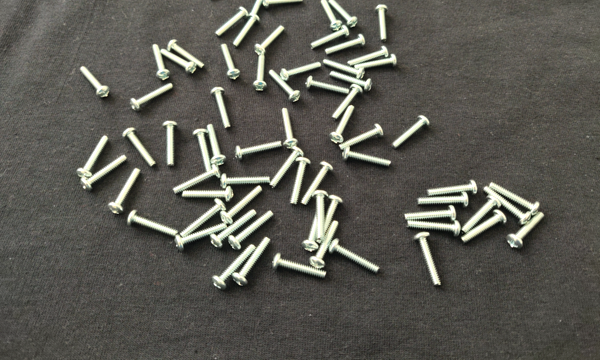longscrew: (211, 243, 257, 292), (231, 237, 272, 287), (483, 186, 532, 227), (328, 238, 382, 275), (228, 210, 276, 251), (210, 209, 257, 250), (180, 198, 228, 238), (80, 154, 127, 193), (489, 182, 541, 216), (461, 209, 508, 246), (220, 186, 264, 225), (413, 231, 443, 287), (108, 168, 143, 215), (461, 195, 502, 235), (172, 163, 223, 195), (174, 222, 227, 252), (272, 252, 328, 280), (506, 212, 547, 250), (269, 146, 305, 189), (300, 161, 334, 206), (309, 221, 340, 270), (76, 136, 109, 180), (122, 128, 158, 168), (126, 210, 179, 237), (316, 194, 344, 244), (391, 115, 431, 150), (130, 83, 173, 113), (331, 83, 364, 121), (166, 39, 206, 70), (340, 123, 384, 151), (214, 6, 250, 39), (269, 69, 302, 103), (328, 105, 356, 145), (342, 146, 392, 168), (290, 157, 312, 206), (79, 66, 111, 99), (235, 140, 283, 162), (309, 25, 351, 50), (232, 13, 261, 49), (192, 128, 214, 175), (347, 45, 390, 69), (406, 220, 462, 238), (159, 48, 197, 74), (210, 87, 233, 129), (254, 25, 285, 56), (182, 186, 235, 204), (330, 71, 373, 93), (325, 33, 366, 56), (302, 209, 323, 253), (416, 192, 470, 209), (323, 58, 366, 79), (206, 124, 227, 167), (404, 205, 457, 222), (328, 0, 359, 28), (220, 173, 271, 190), (311, 190, 328, 241), (280, 62, 323, 82), (305, 76, 350, 95), (162, 121, 180, 168), (427, 180, 479, 196), (281, 108, 300, 150), (220, 44, 241, 80), (354, 54, 398, 70), (152, 44, 171, 81), (321, 0, 343, 31), (375, 3, 390, 43), (252, 55, 267, 92), (263, 0, 304, 9), (249, 0, 272, 16)
